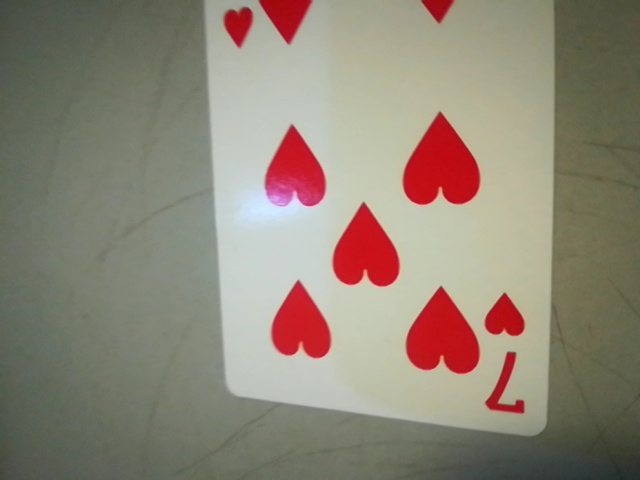hx 7: (477, 293, 542, 423)
